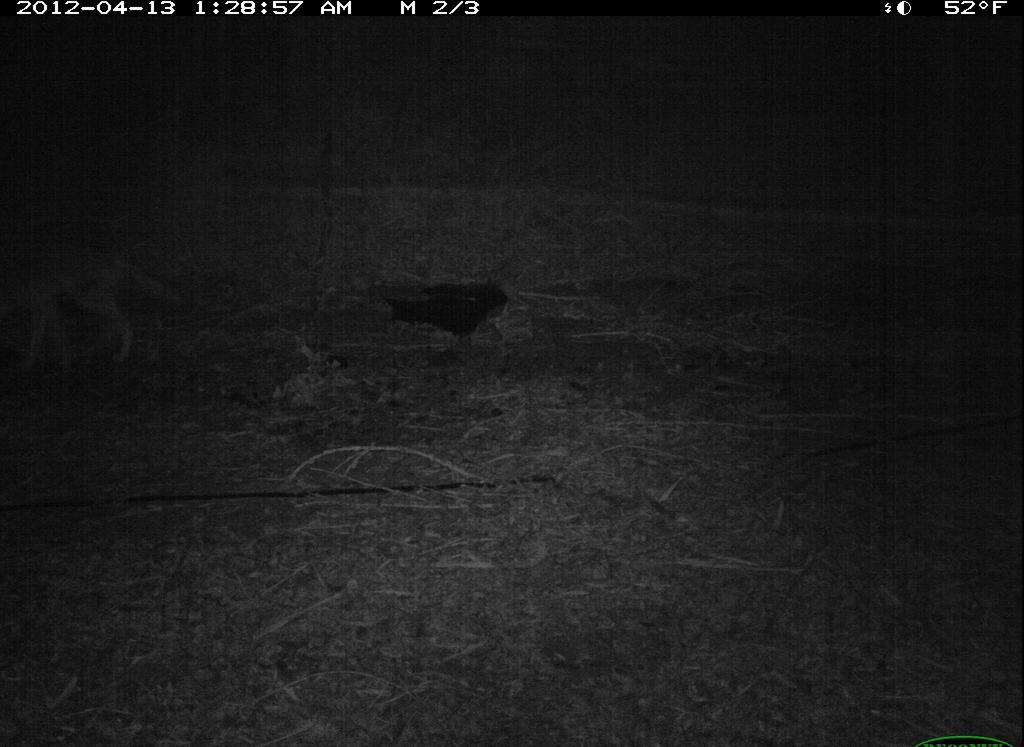coyote: (4, 246, 150, 374)
